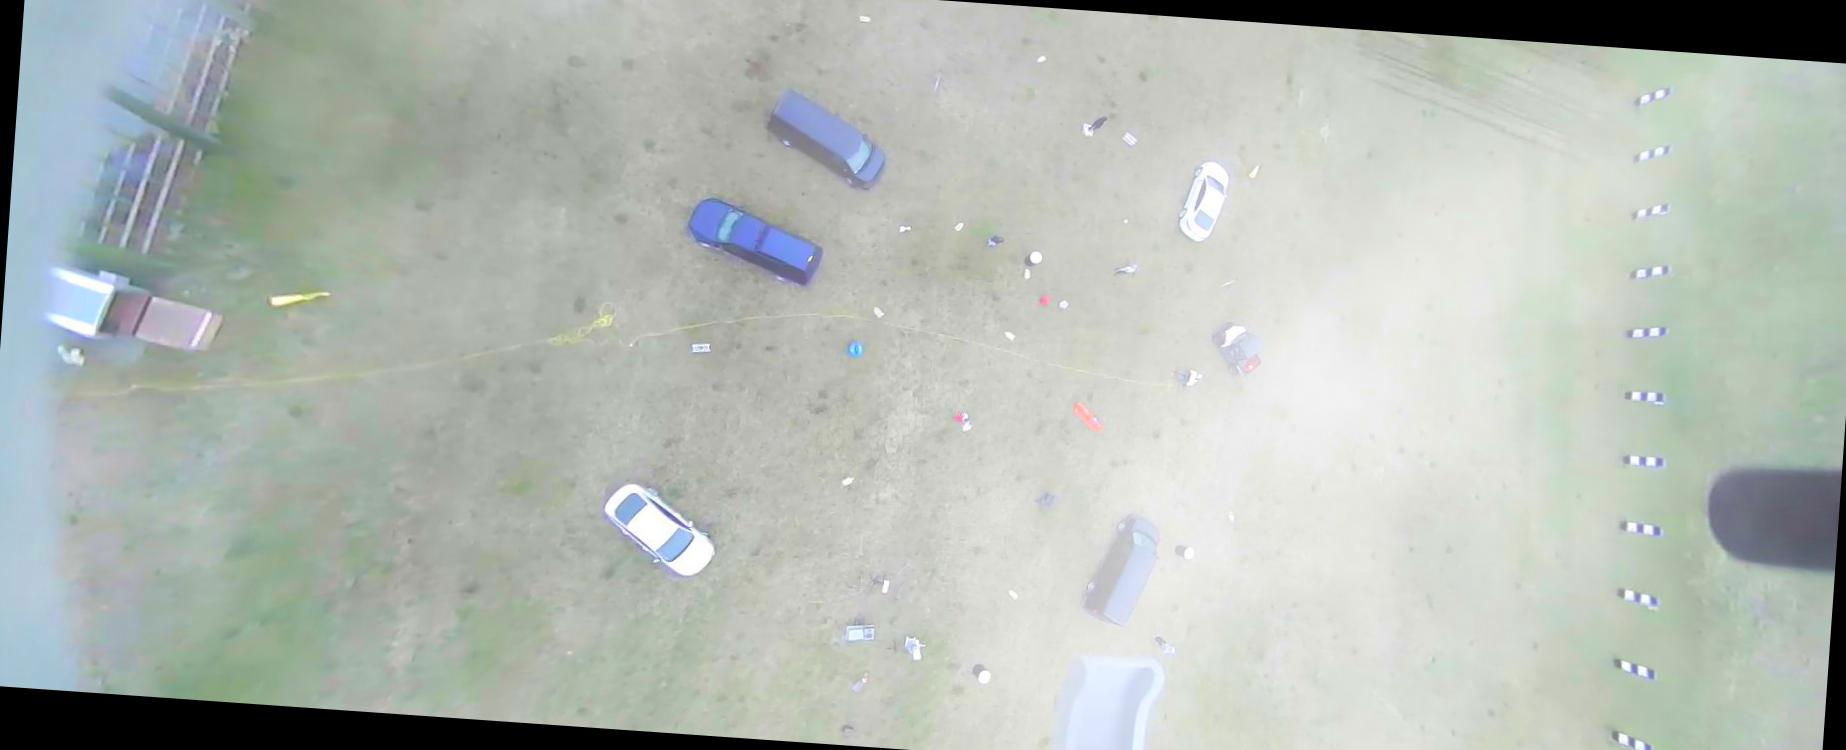vehicle: (763, 87, 889, 190), (684, 197, 822, 287), (599, 482, 719, 579), (1081, 510, 1162, 630), (1175, 159, 1229, 245), (1209, 321, 1264, 379)
